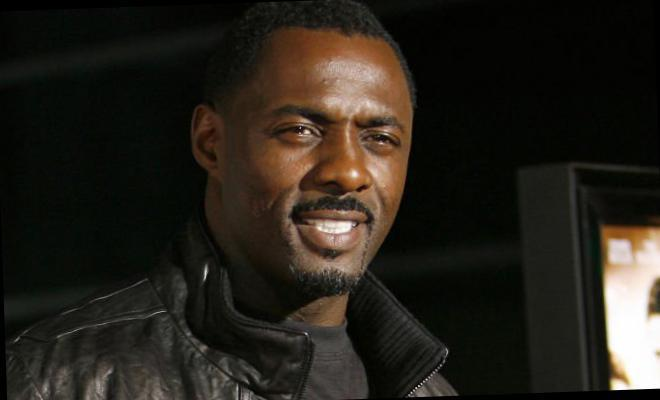Sober: (236, 36, 404, 273)
